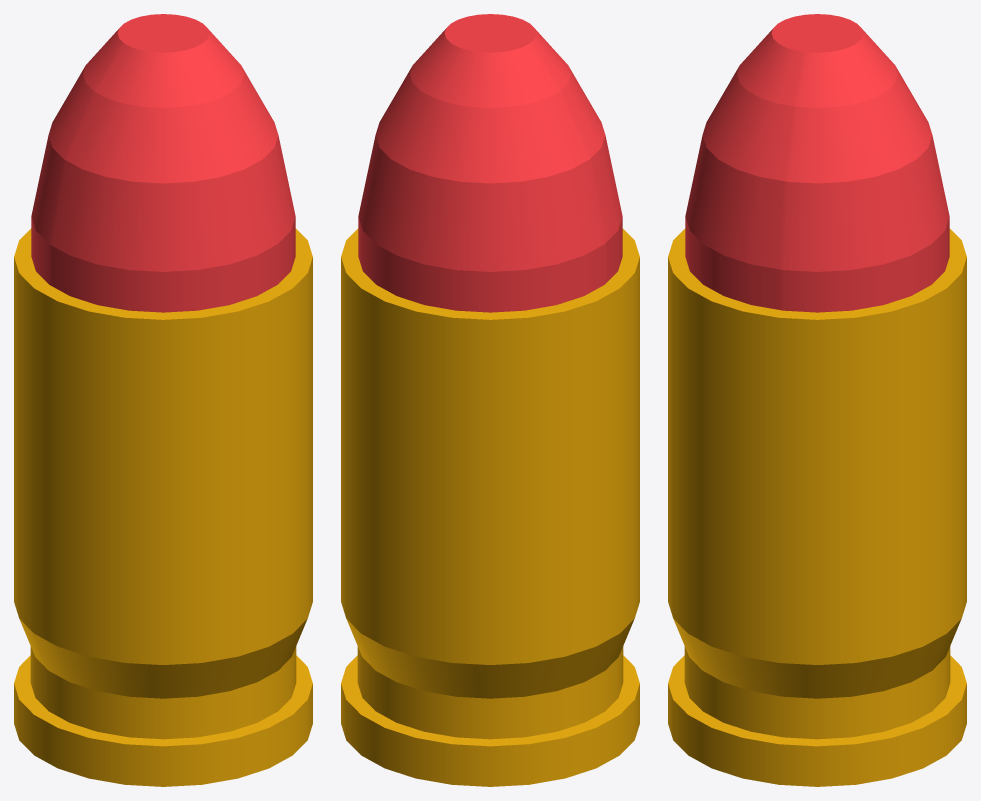
Rendered from ammo_uzi.obj.
The picture shows the model from 3 angles, left to right: view 1: azimuth 30°, elevation 25°; view 2: azimuth 150°, elevation 25°; view 3: azimuth 270°, elevation 25°; orthographic projection.
Parts seen in each view (by area): view 1: Group; view 2: Group; view 3: Group.
Part boxes in pixels (box(x1,y1,x2,y2)): Group: box(14, 14, 312, 786); Group: box(341, 14, 639, 786); Group: box(668, 14, 966, 786).
Size of the model in its own units: 0.0255 by 0.0651 by 0.0255.
